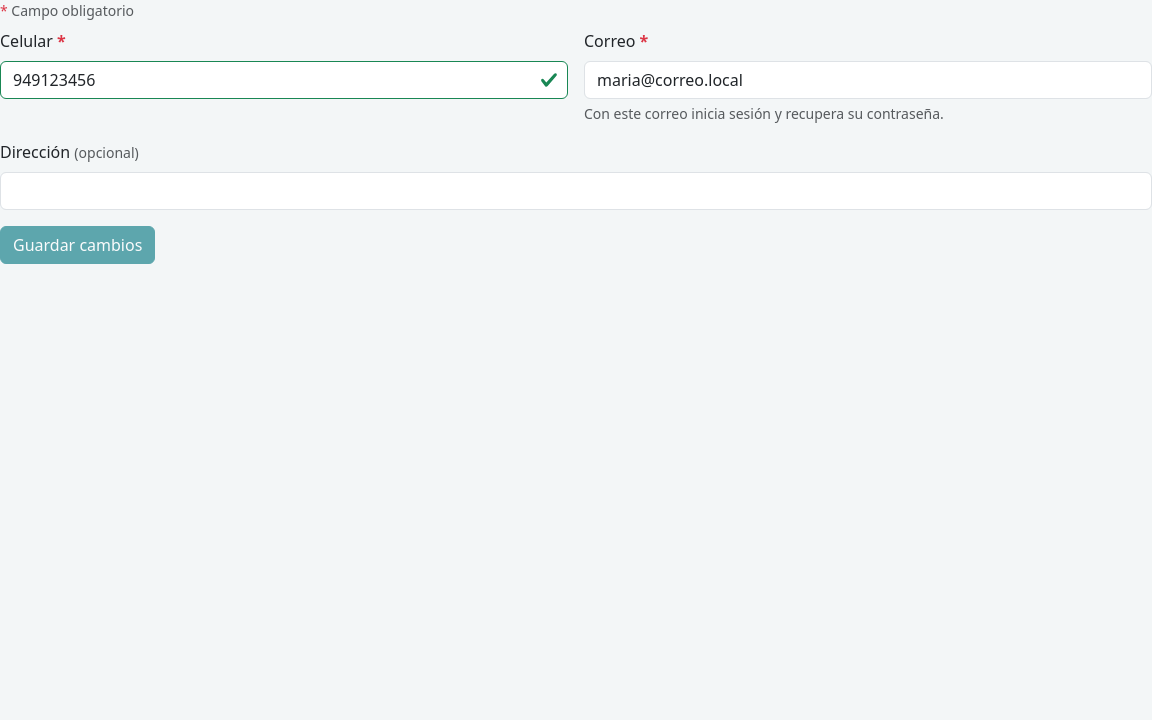
«Mis datos» › adulto: no ve el apoderado; marca obligatorios; sin cambios no guarda; pide «¿Guardar los cambios?» con Sí / No
Check: the text "Dirección (opcional)" is shown, box left=0, top=140, right=139, bottom=164
Check: the button "Guardar cambios" is disabled, box left=0, top=226, right=155, bottom=264
Replace the text in the field labelled "Celular" with "987000111" at (284, 80), box left=0, top=61, right=568, bottom=99
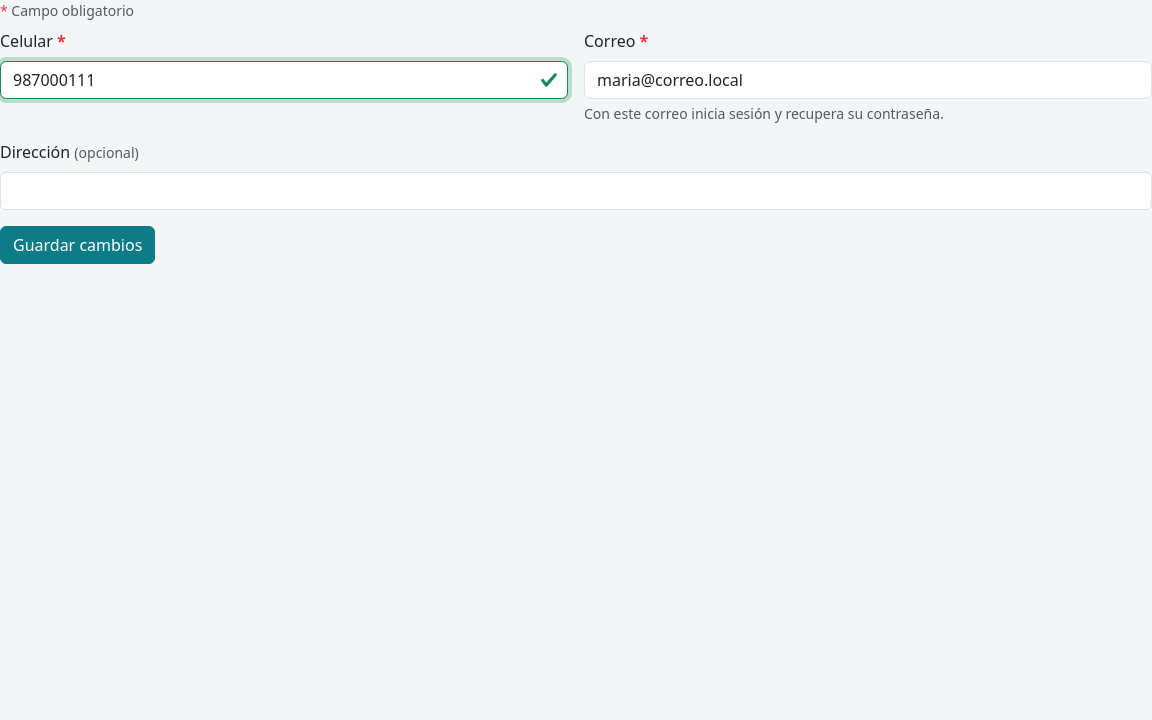
Click the button "Guardar cambios" at (78, 245), box left=0, top=226, right=155, bottom=264
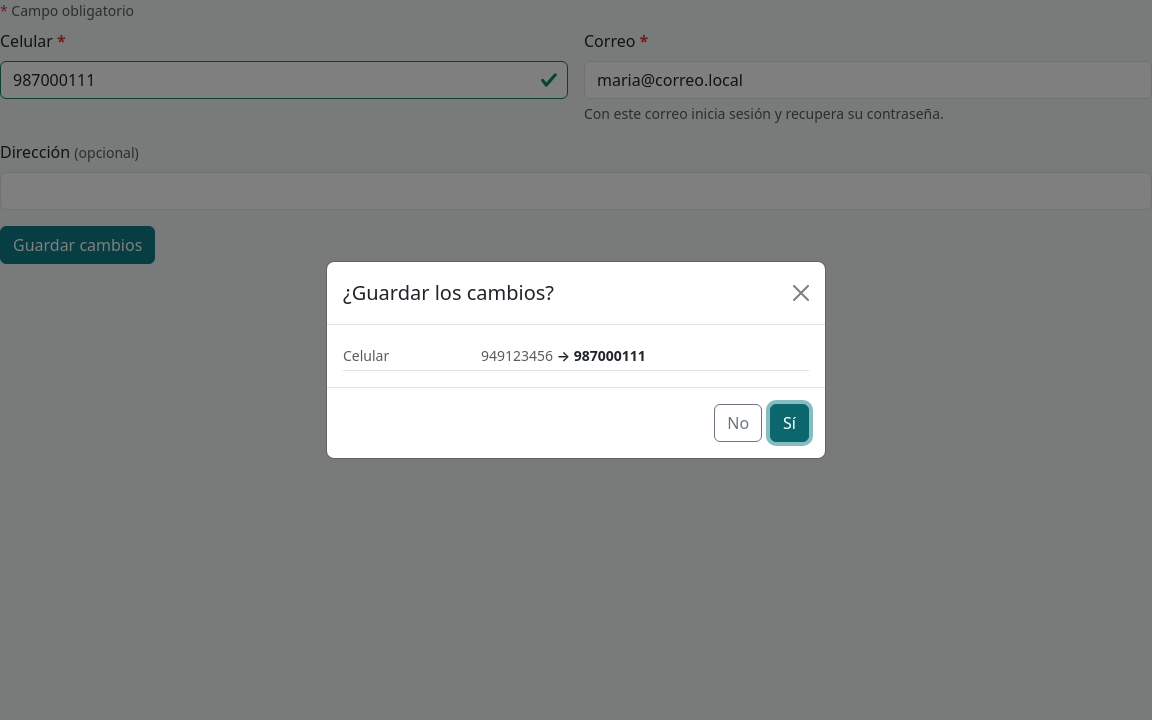
Check: the text "¿Guardar los cambios?" is shown, box left=343, top=278, right=554, bottom=308
Check: the text "949123456" is shown, box left=481, top=346, right=553, bottom=365
Click the button "No" at (738, 423), box left=714, top=404, right=762, bottom=442
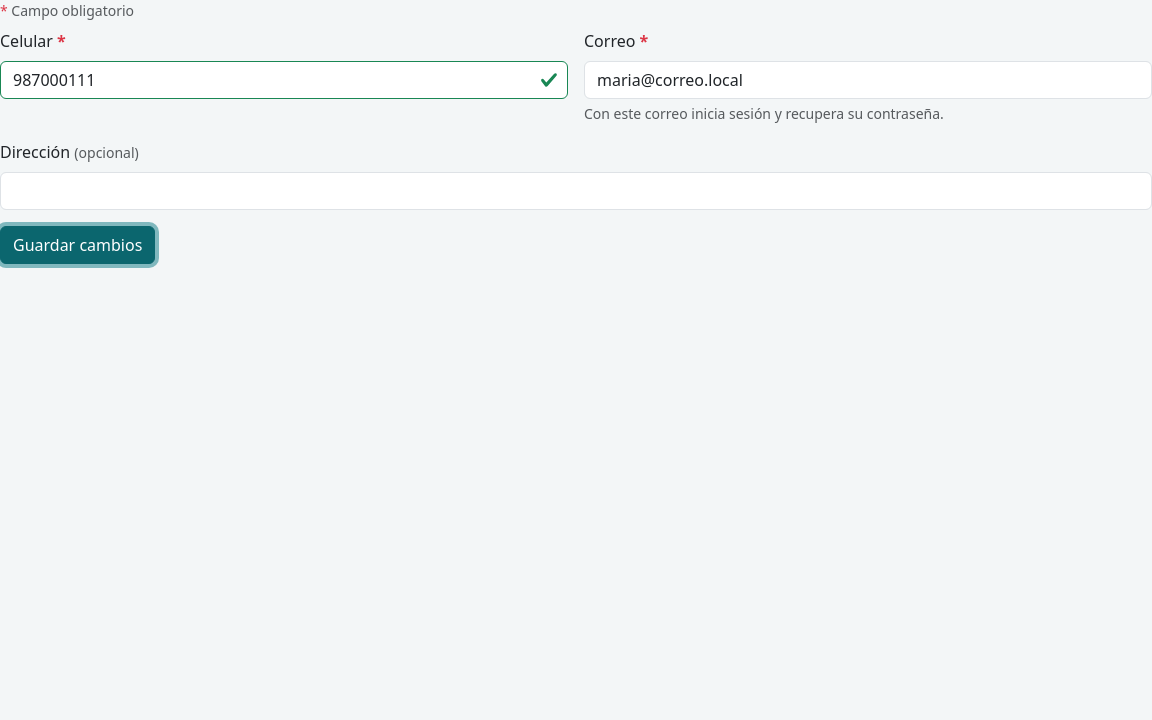
Click the button "Guardar cambios" at (78, 245), box left=0, top=226, right=155, bottom=264
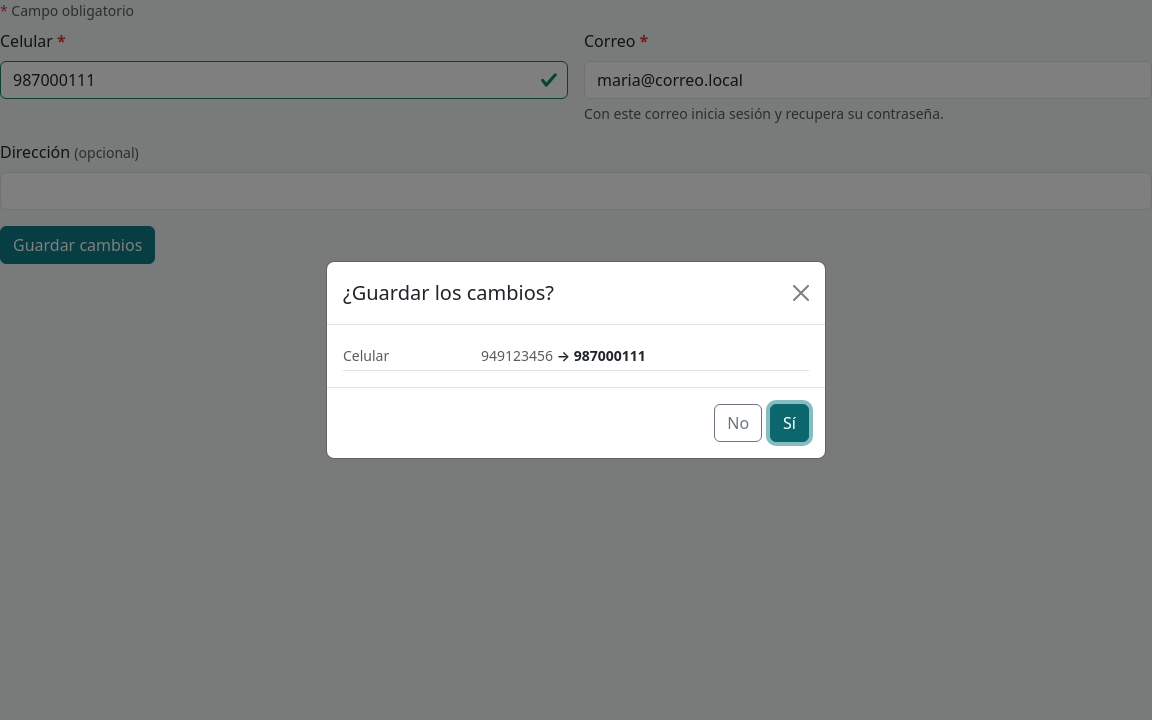
Click the button "Sí" at (790, 423), box left=770, top=404, right=809, bottom=442
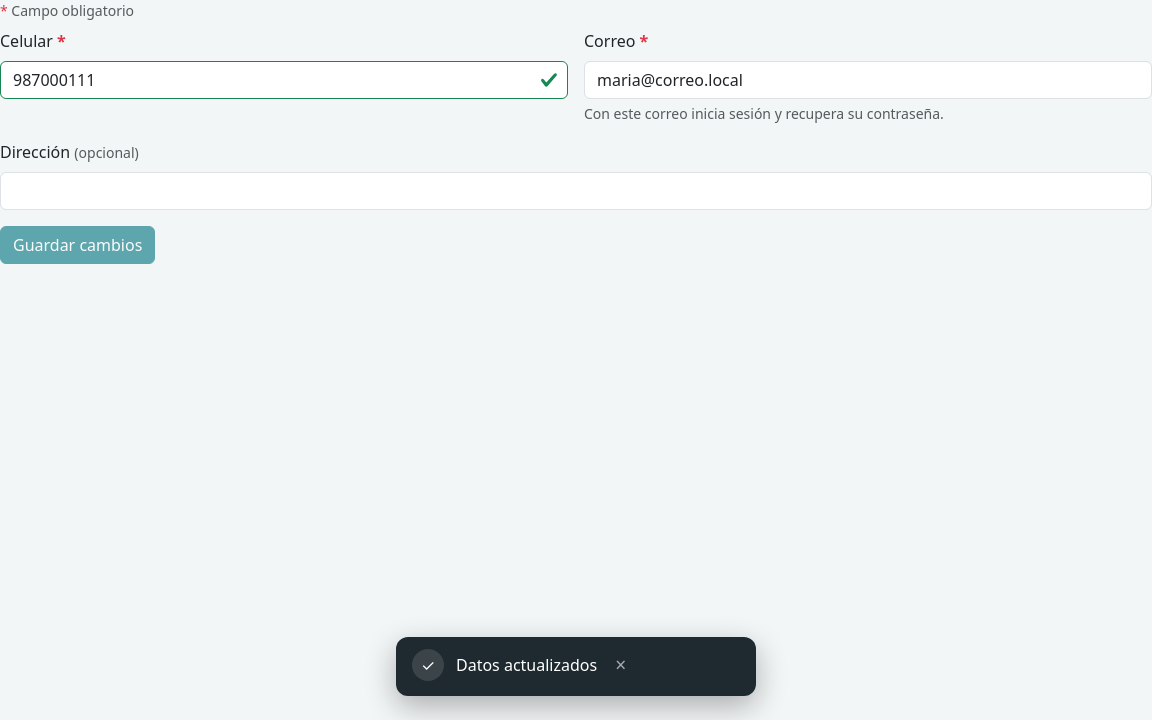
Check: the text "Datos actualizados" is shown, box left=456, top=653, right=597, bottom=677
